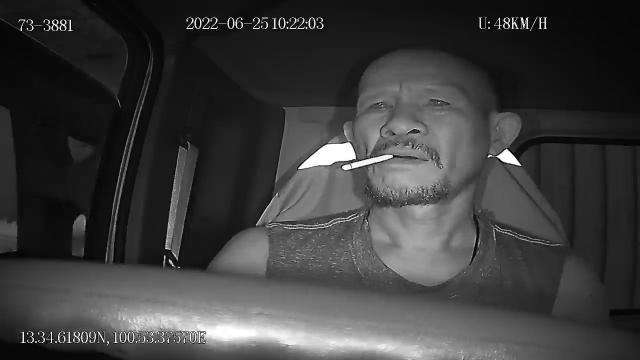SafeDriving: (418, 88, 460, 118), (360, 92, 399, 122)
Smoking: (341, 152, 393, 172)
